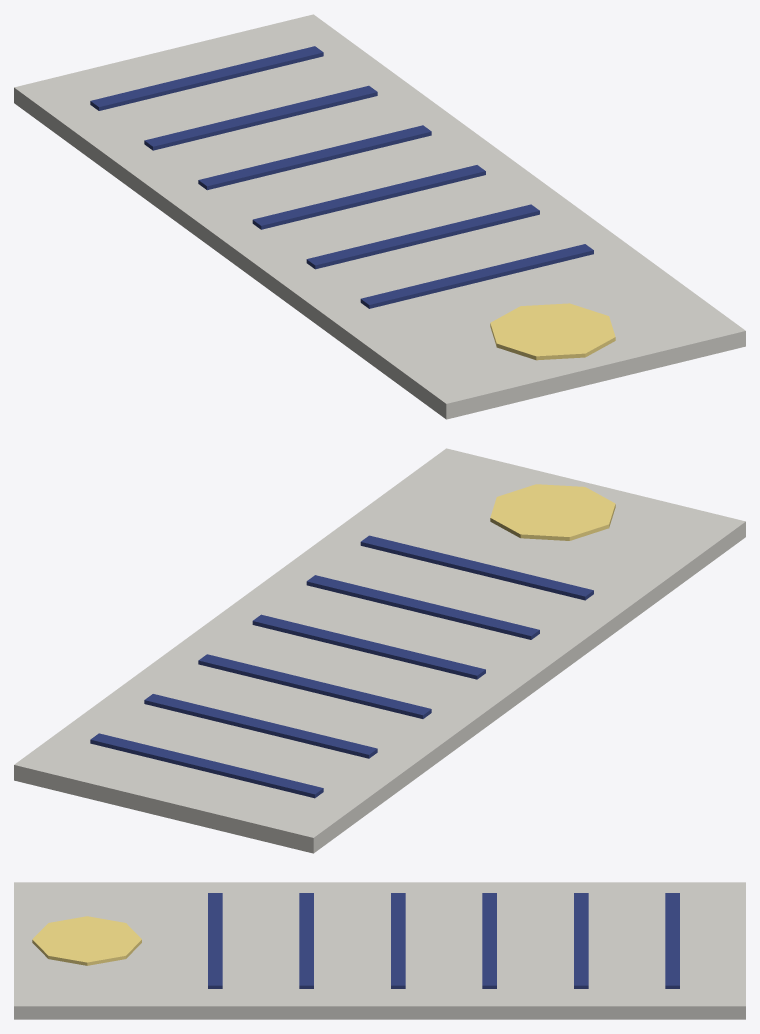
The model's file is bowl_popcorn_receipt.glb.
3 renders of one model, top to bottom at view 1: azimuth 30°, elevation 25°; view 2: azimuth 150°, elevation 25°; view 3: azimuth 270°, elevation 25°, orthographic. The views are drawn at different scales.
Parts seen in each view (by area): view 1: paper_paper, lines_ink_blue (×6), logo_popcorn_yellow; view 2: paper_paper, lines_ink_blue (×6), logo_popcorn_yellow; view 3: paper_paper, lines_ink_blue (×6), logo_popcorn_yellow.
Boxes of the visible parts, box(x1,y1,x2,y2) form: paper_paper: box(14, 14, 745, 419); lines_ink_blue (×6): box(90, 46, 593, 308); logo_popcorn_yellow: box(490, 303, 615, 360); paper_paper: box(14, 448, 745, 853); lines_ink_blue (×6): box(90, 535, 593, 798); logo_popcorn_yellow: box(490, 484, 615, 540); paper_paper: box(14, 882, 745, 1019); lines_ink_blue (×6): box(208, 893, 679, 988); logo_popcorn_yellow: box(32, 916, 141, 965).
Size of the model in its own units: 0.08 by 0.0055 by 0.2.
